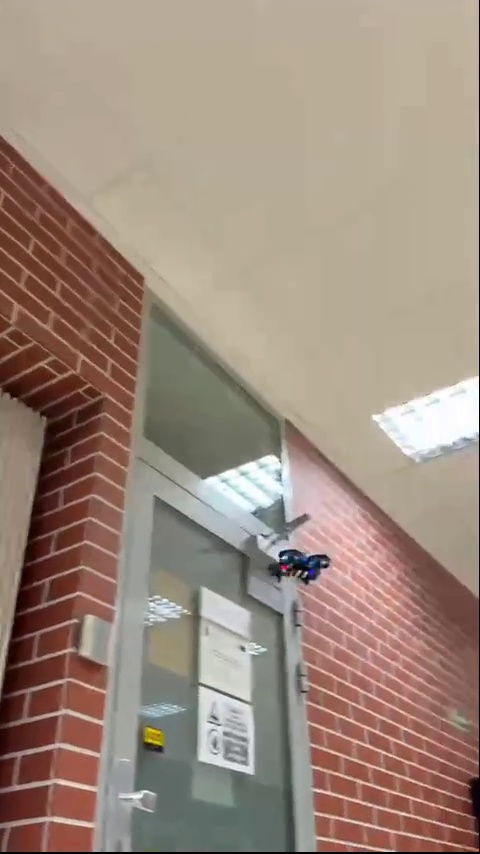drone: (270, 550, 331, 590)
